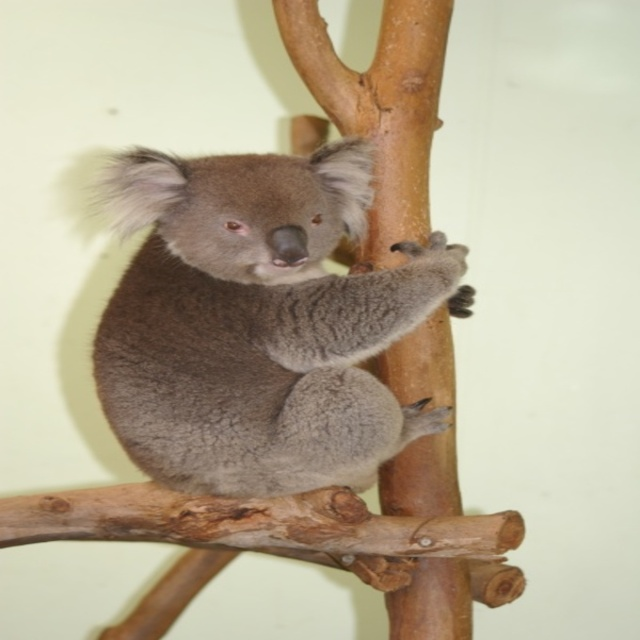Koala: (90, 137, 475, 499)
